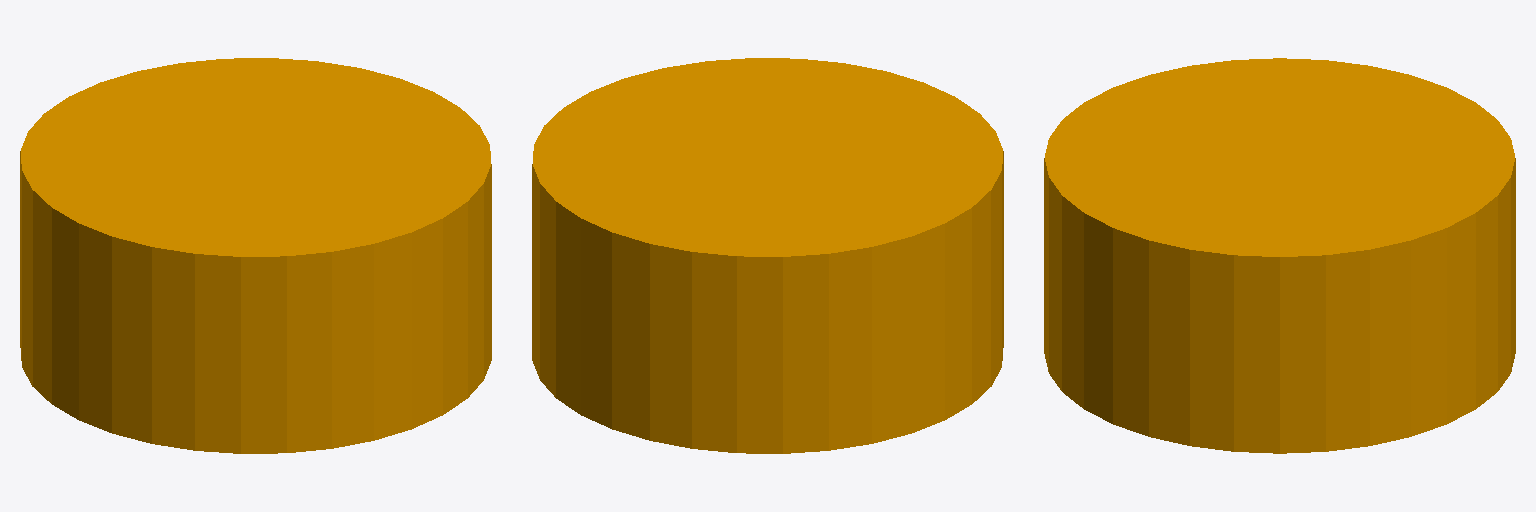
The robot description file, URDF, robot "pepe":
<?xml version="1.0"?><robot name="pepe">
	<link name="0">
		<visual>
			<geometry>
				<cylinder length="0.6733912339158112" radius="0.7313124805478551"/>
			</geometry>
		</visual>
		<collision>
			<geometry>
				<cylinder length="0.6733912339158112" radius="0.7313124805478551"/>
			</geometry>
		</collision>
		<inertial>
			<mass value="1.131418567253097"/>
			<inertia ixx="0.03" iyy="0.03" izz="0.03" ixy="0" ixz="0" iyx="0"/>
		</inertial>
	</link>
</robot>

--- Facts derived from the render (not from the file) ---
The picture shows the robot from 3 angles, left to right: view 1: azimuth 30°, elevation 25°; view 2: azimuth 150°, elevation 25°; view 3: azimuth 270°, elevation 25°; orthographic projection.
Model pepe with 1 links and 0 joints (none), rooted at 0, posed all joints at 0.
Links seen in each view (by area): view 1: 0; view 2: 0; view 3: 0.
Link boxes in pixels (x1,y1,x2,y2): 0: (20,58,491,453); 0: (532,58,1003,453); 0: (1044,58,1515,453).
Bounding box of the posed robot: 1.46 × 1.46 × 0.6734 m (x, y, z).
Geometry: primitives only (box / cylinder / sphere), no mesh files.